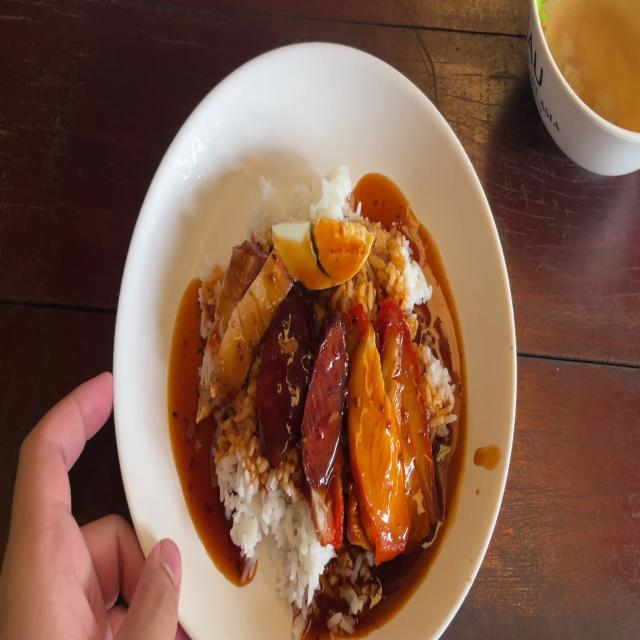01boiled_egg: (271, 219, 378, 289)
01chainese_sausage: (269, 311, 343, 474), (257, 302, 307, 453), (299, 327, 342, 477)
01crispy_pork: (195, 244, 284, 416)
01red_pork: (351, 327, 431, 545)
01red_pork_and_crispy_pork: (203, 159, 451, 612)
01rice: (253, 499, 318, 632), (215, 385, 262, 541), (262, 179, 352, 222)
